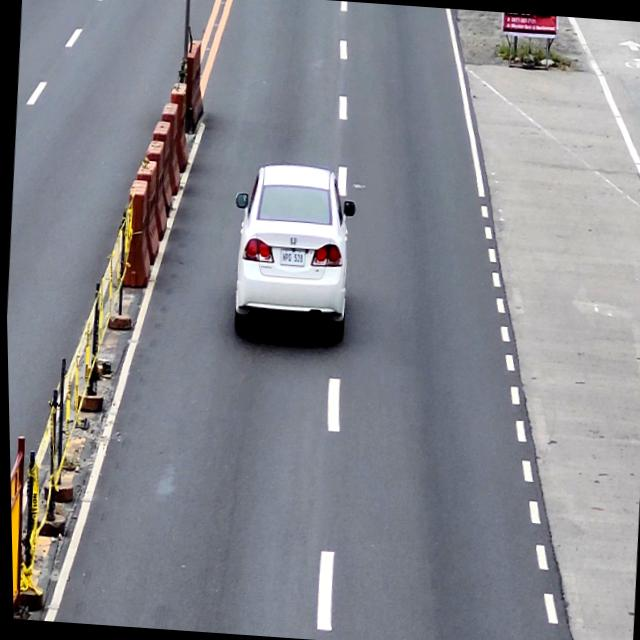Car: (224, 162, 358, 342)
License-Plate: (278, 248, 304, 268)
